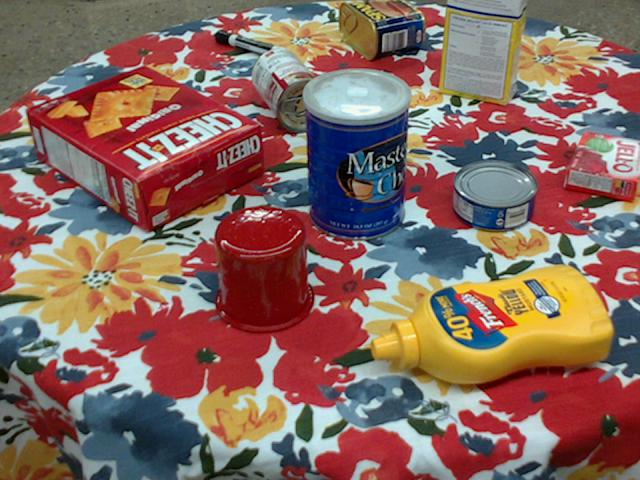cracker_box: (29, 65, 264, 230)
gelatin_box: (563, 131, 639, 202)
large_marker: (216, 29, 288, 59)
master_chef_can: (302, 67, 409, 241)
mug: (212, 205, 315, 333)
mustard_bottle: (372, 261, 614, 382)
potted_meat_can: (339, 0, 425, 58)
sugar_box: (438, 0, 528, 105)
tomato_soup_can: (251, 47, 332, 132)
tuna_fish_can: (454, 160, 539, 231)
